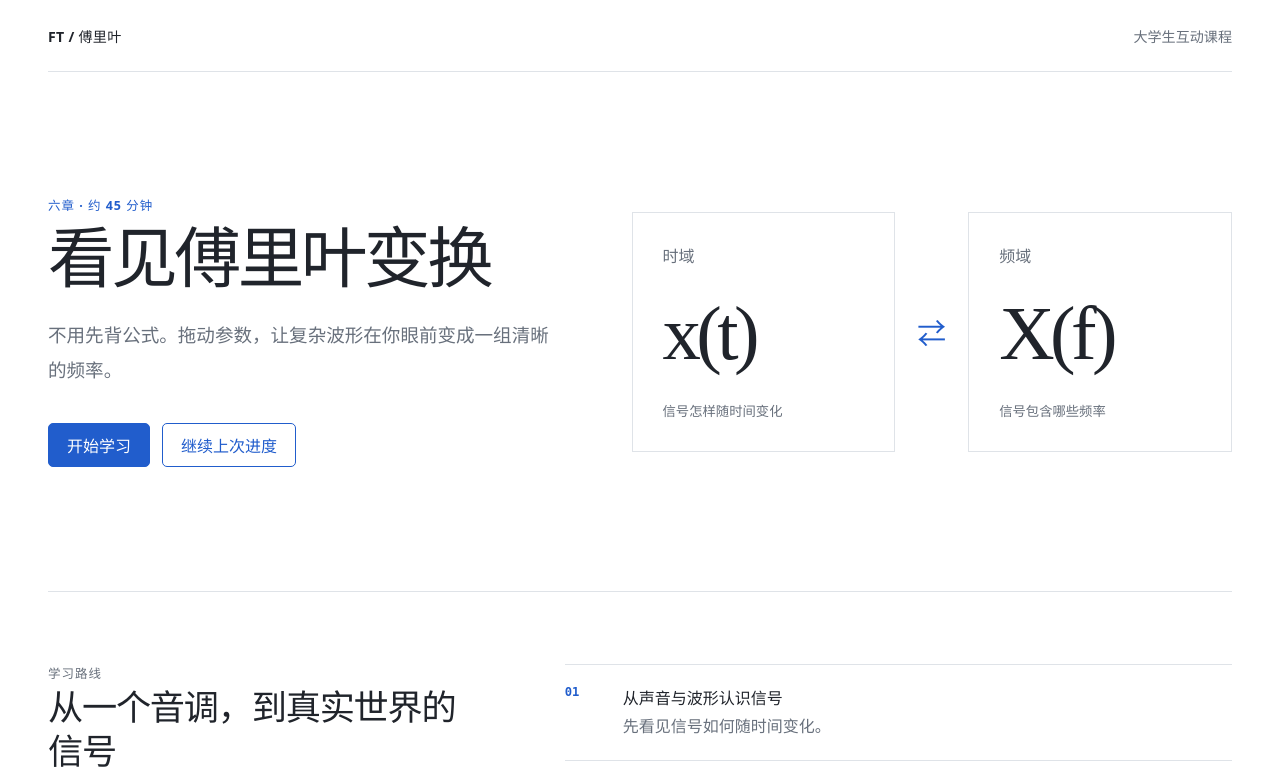
App › 从本地进度继续学习
Click the button "继续上次进度". click: (229, 445)
box: left=162, top=423, right=296, bottom=467
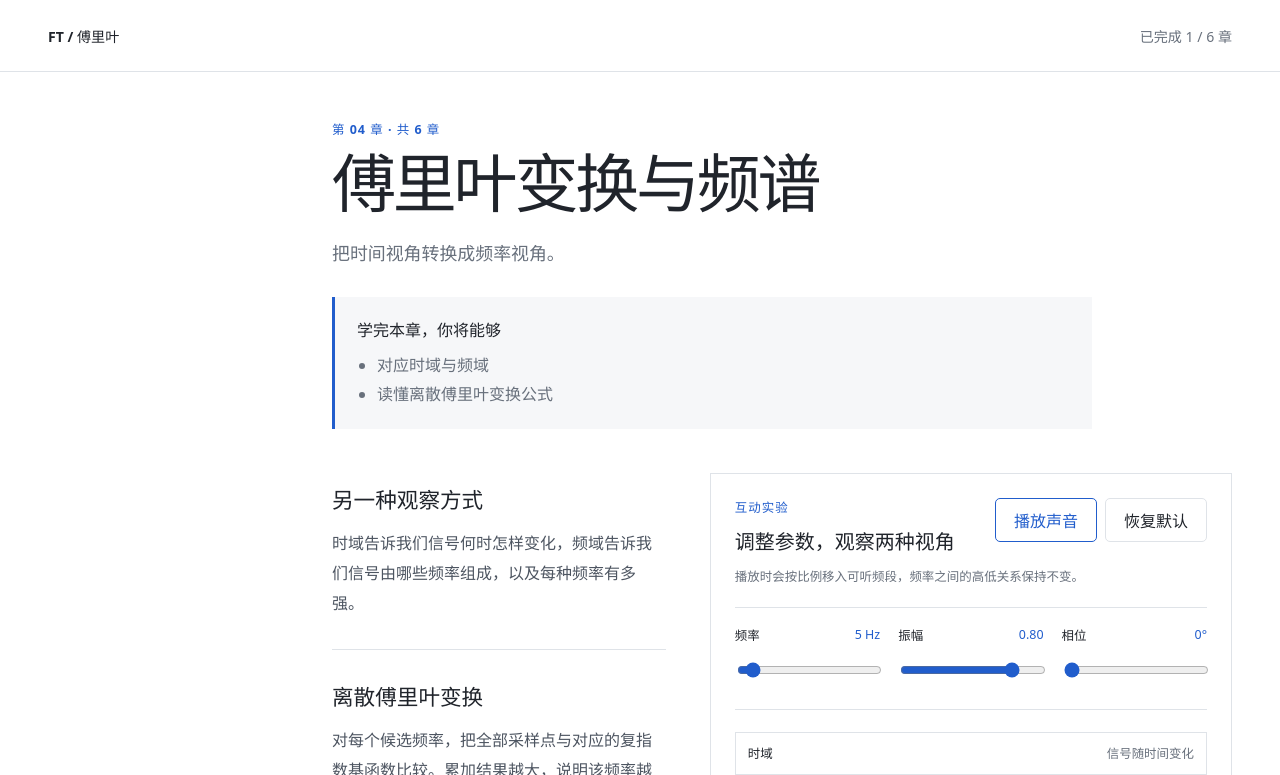
Expected: the heading "傅里叶变换与频谱" is shown, left=332, top=139, right=818, bottom=226
